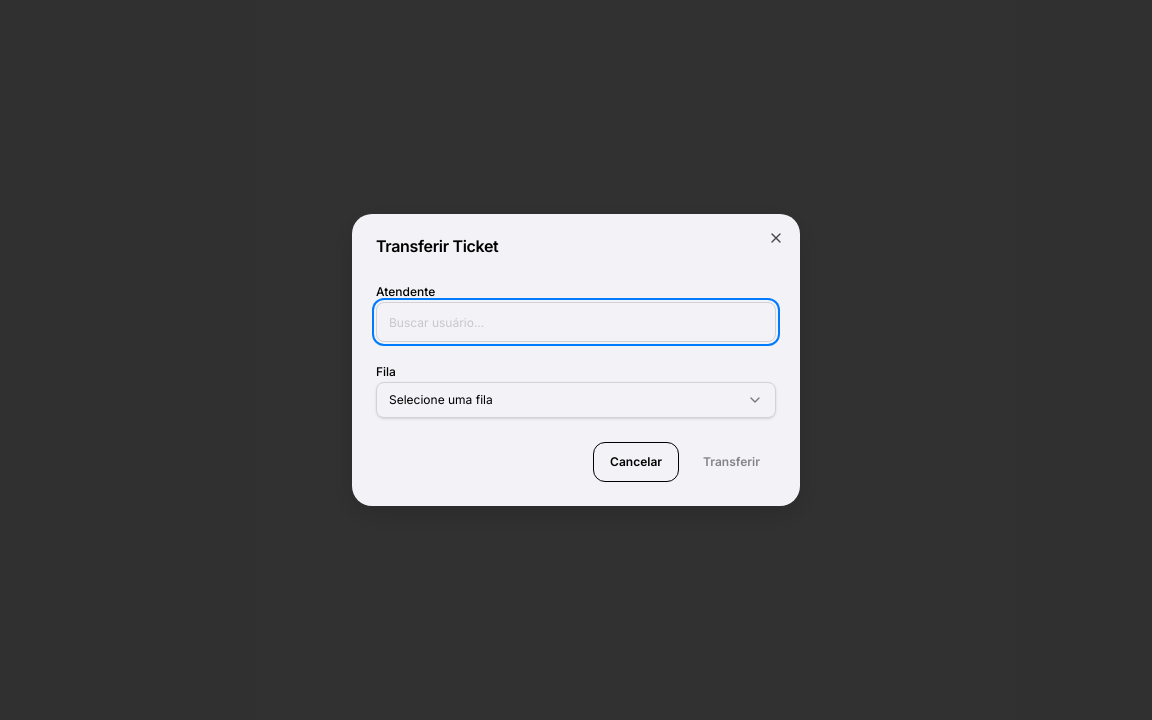
Test: TransferTicketModal › alterar o campo após selecionar usuário limpa a seleção
Step 1. Type "mar" into the field with placeholder "Buscar usuário..." → {"x": 576, "y": 322}, box [376, 302, 776, 342]
Wait 600 ms
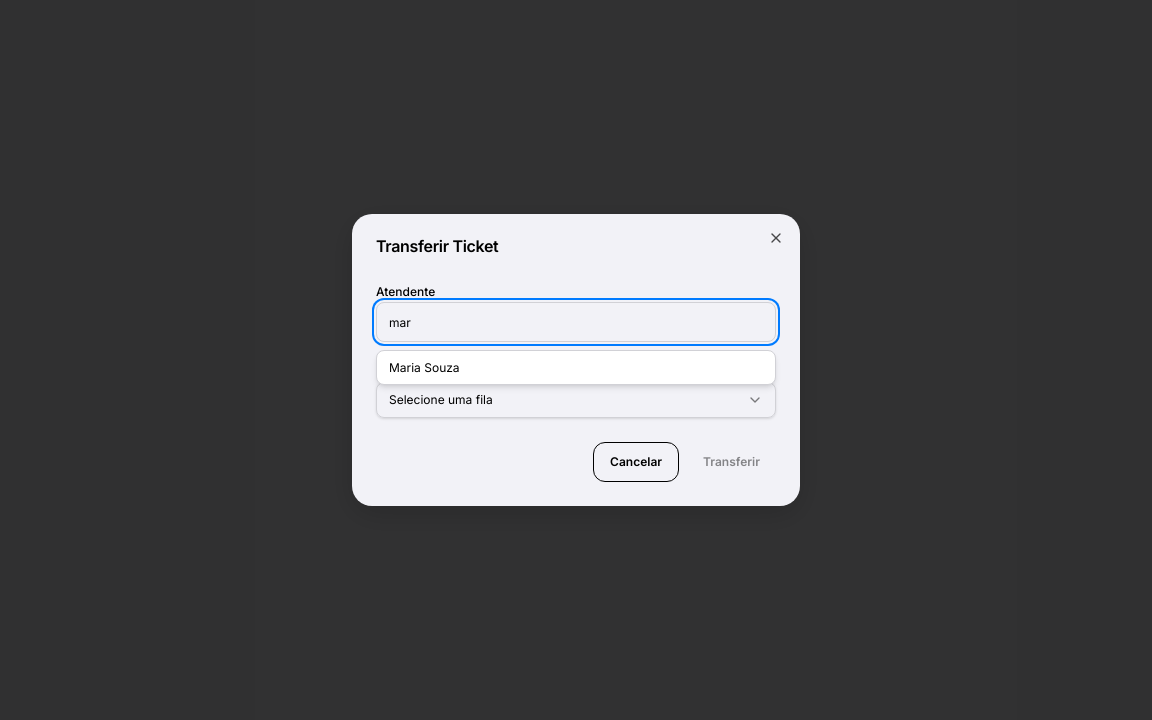
Result: the text "Maria Souza" is shown
Step 2. Click the text "Maria Souza" → {"x": 424, "y": 368}, box [389, 360, 460, 375]
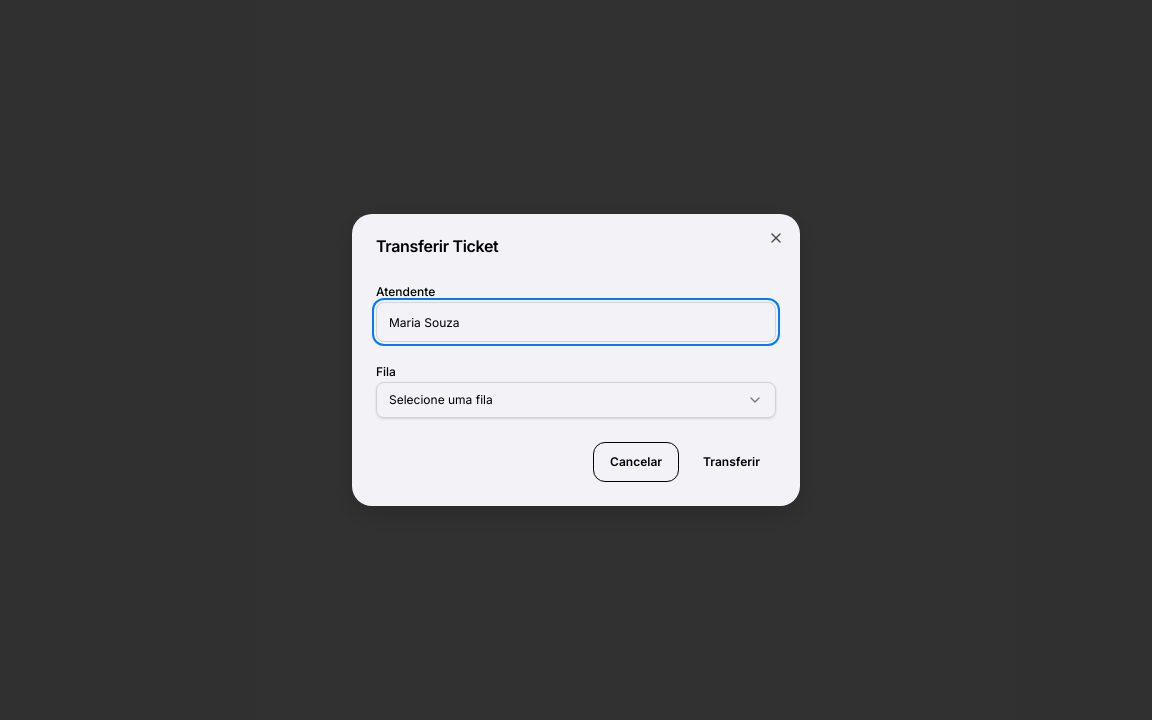
Step 3. Replace the text in the field with placeholder "Buscar usuário..." with "outro" → {"x": 576, "y": 322}, box [376, 302, 776, 342]
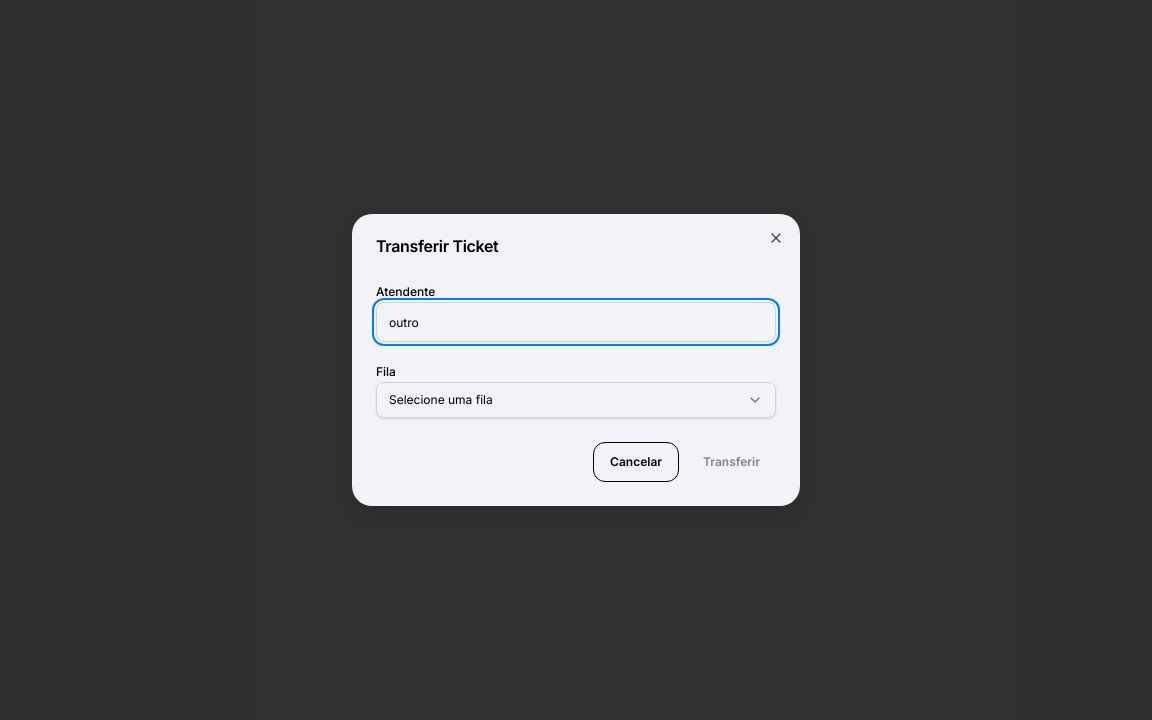
Result: the button "Transferir" is disabled at [687, 442, 776, 482]
